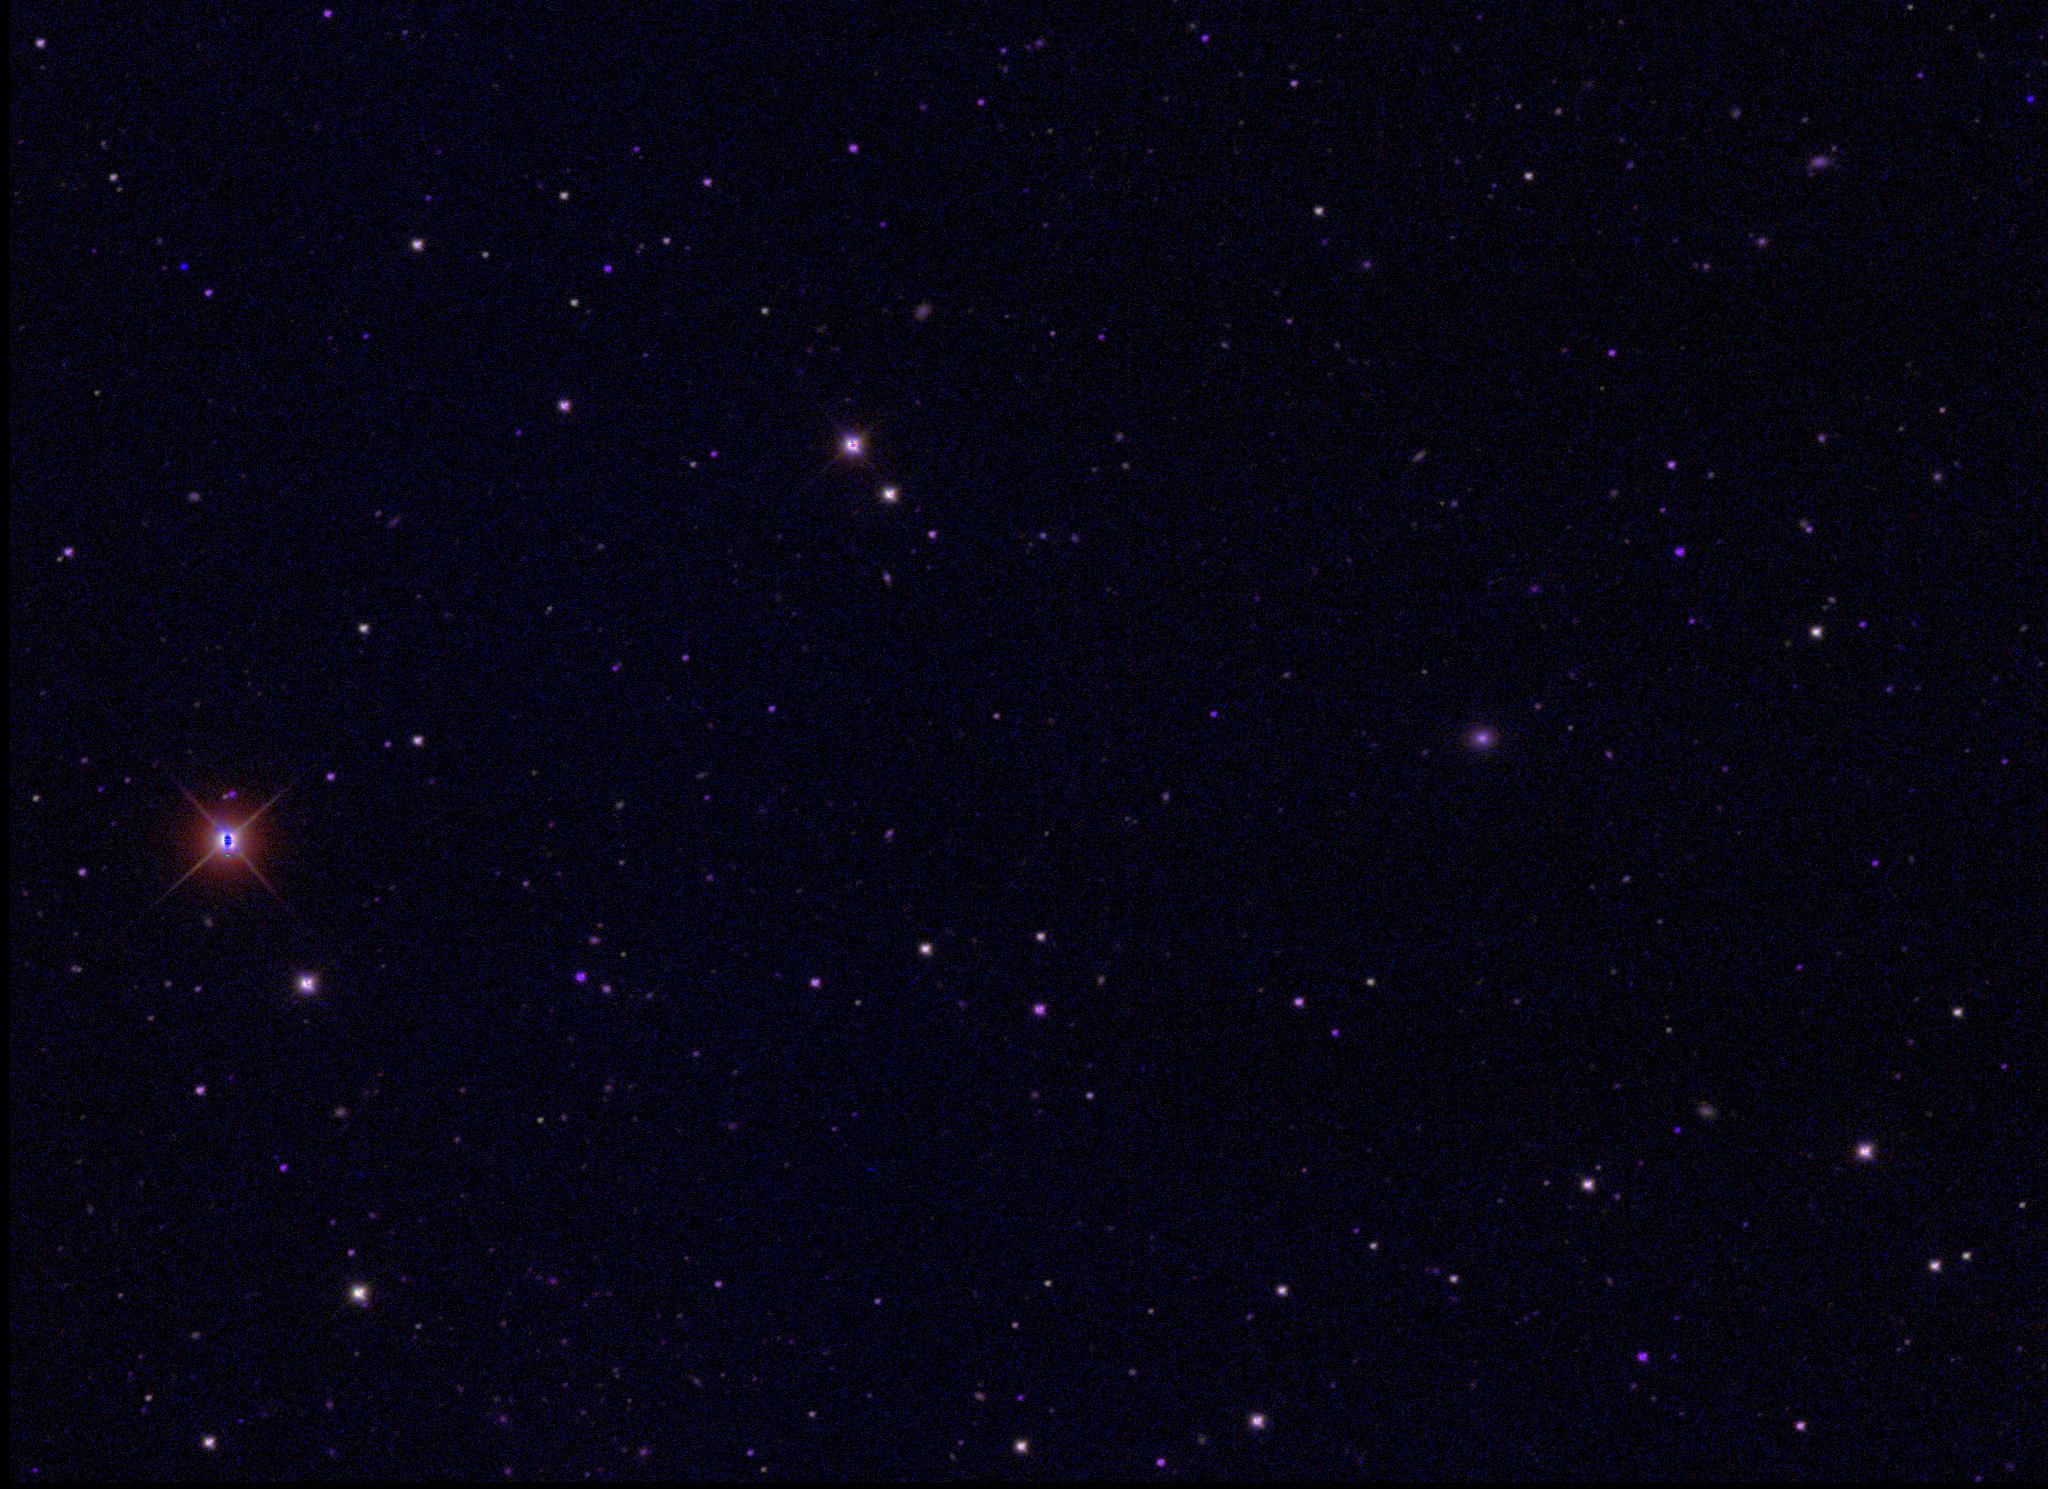L: (176, 259, 191, 274)
